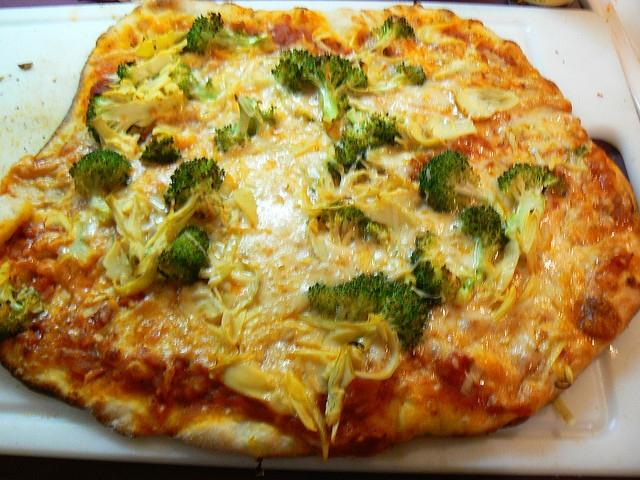broccoli: (271, 49, 368, 124), (498, 164, 568, 234), (328, 113, 401, 179), (416, 149, 488, 213), (454, 205, 504, 292), (143, 226, 210, 286), (308, 272, 386, 322), (163, 157, 226, 218), (214, 96, 276, 153), (376, 280, 426, 350), (187, 13, 260, 55), (69, 150, 133, 197), (85, 95, 154, 134), (0, 282, 44, 340), (410, 231, 443, 296), (322, 200, 364, 246), (370, 15, 416, 52), (118, 54, 172, 84), (171, 64, 216, 100), (140, 136, 182, 166), (396, 62, 426, 85), (308, 118, 315, 123)
